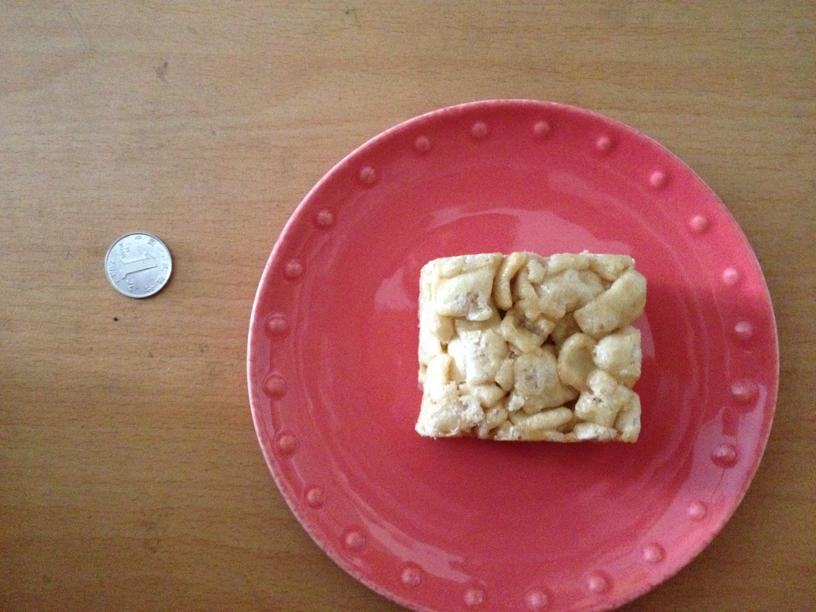coin: (105, 232, 172, 301)
sachima: (404, 251, 644, 446)
